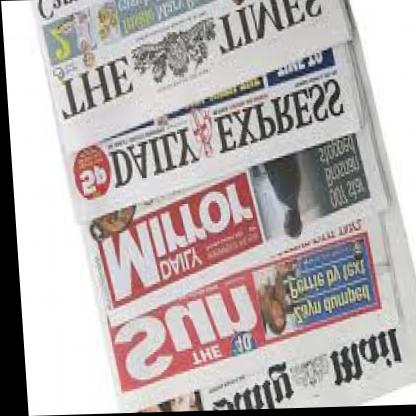Paper: (40, 0, 416, 413)
